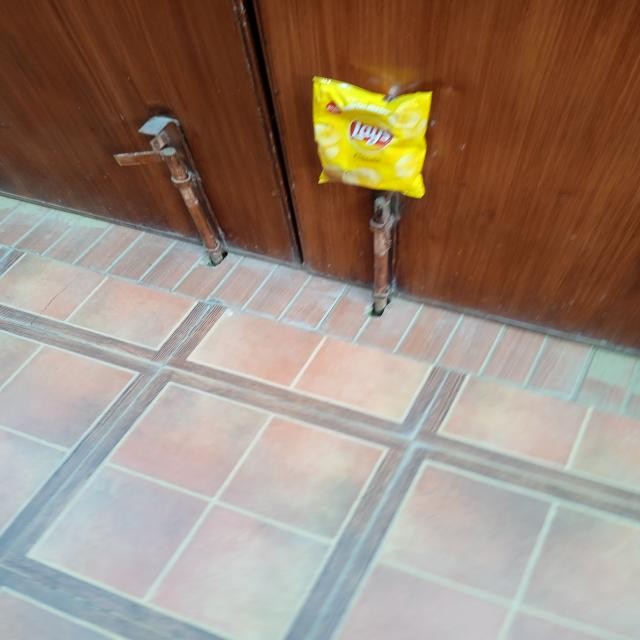Plastic: (314, 78, 429, 198)
